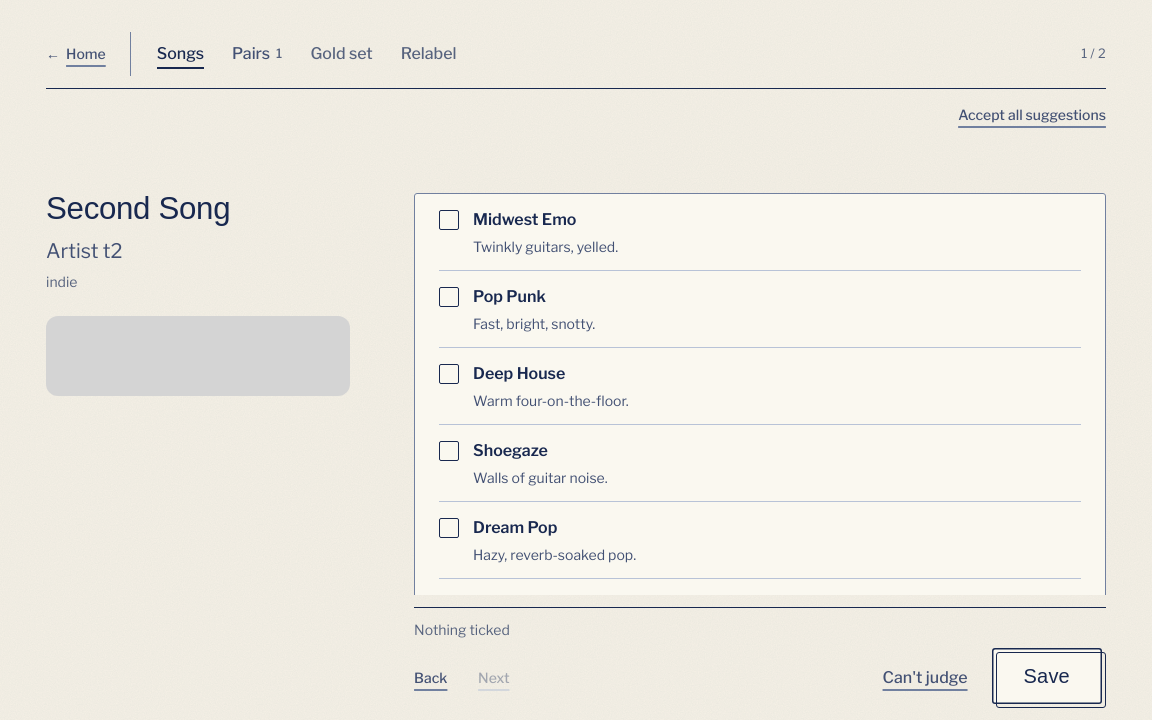
LabelApp: songs › Back pre-fills nothing for a label from an earlier session
Click the button "Back".
click(436, 678)  # box [414, 656, 458, 700]
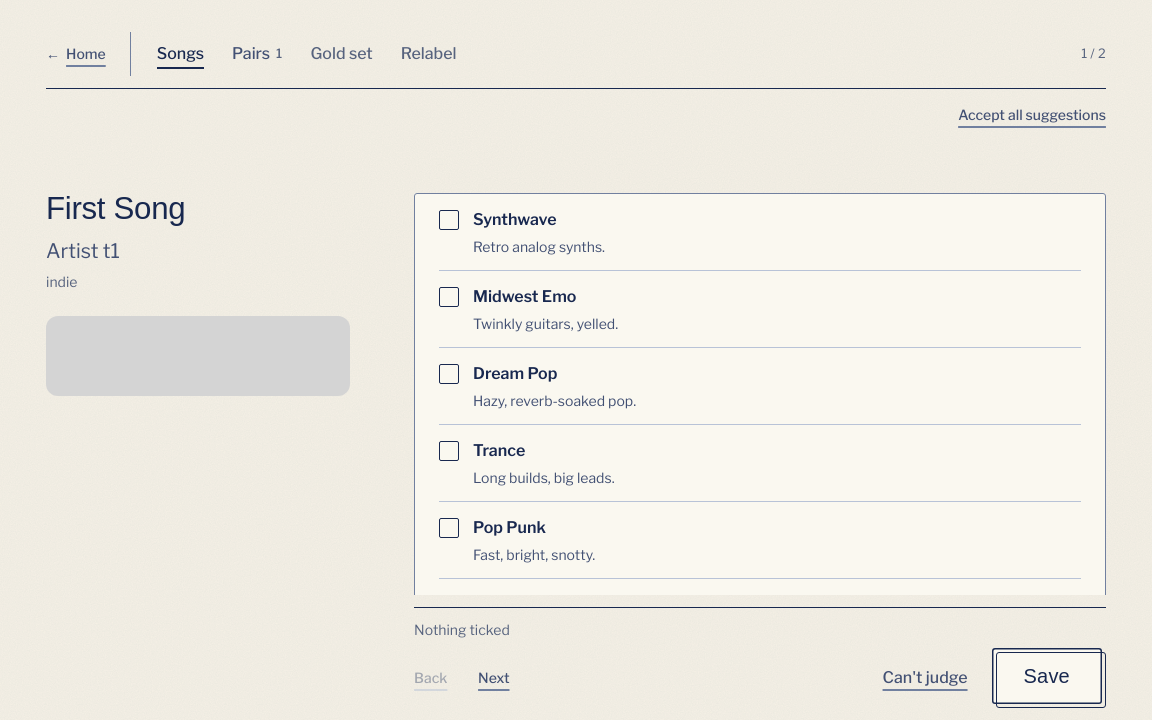
expect the checkbox labelled "Synthwave Retro analog synths." is not checked: met, box [439, 210, 459, 230]
expect the button "Back" is disabled: met, box [414, 656, 458, 700]
